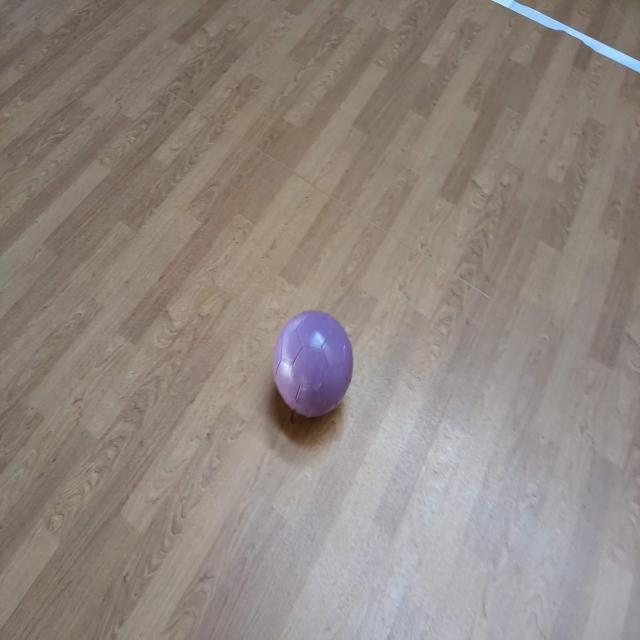purple_ball: (273, 309, 353, 419)
